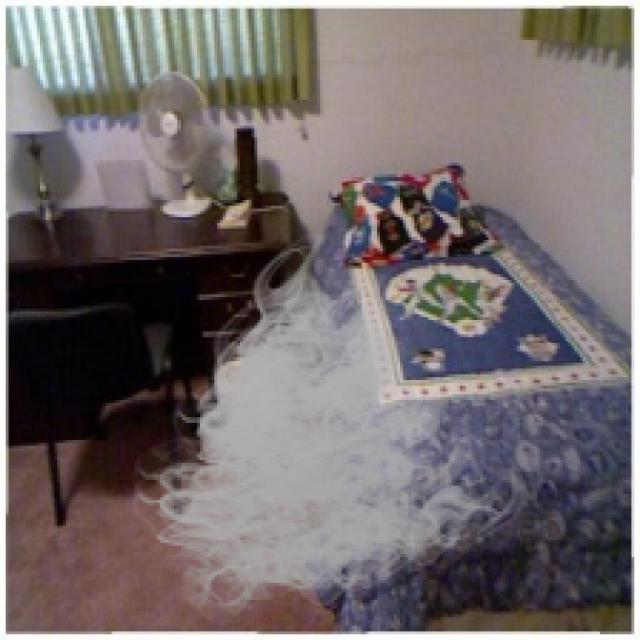Smoke: (120, 235, 534, 634)
